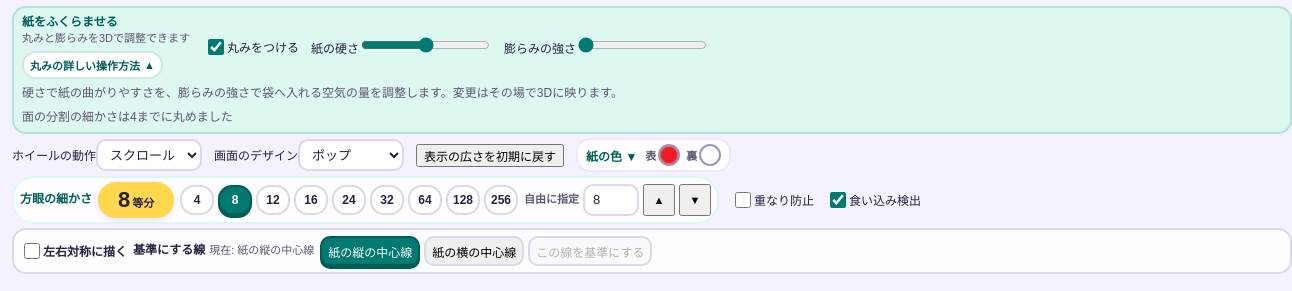
Test: 紙のたわみ(SIM-012 / SIM-013) › 説明を畳んでも見出し・要点・入力・計算の注意を残し、選択を端末へ保存する
Expected: the text "硬さで紙の曲がりやすさを、膨らみの強さで袋へ入れる空気の量を調整します。変更はその場で3Dに映ります。" is shown, [22, 86, 623, 100]
What coordinates should you click on to do the following:
click the button "丸みの詳しい操作方法 ▲"
I would click on:
 (92, 65)
Its box is [22, 51, 163, 79].
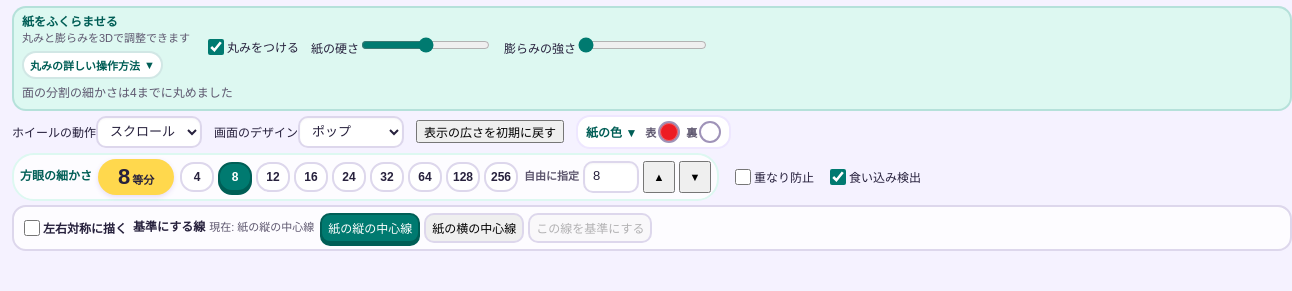
Expected: the text "紙をふくらませる" is shown, [22, 15, 118, 29]
Expected: the button "丸みの詳しい操作方法 ▼" is collapsed
Expected: the text "硬さで紙の曲がりやすさ" is gone
What coordinates should you click on to do the following:
click the button "丸みの詳しい操作方法 ▼"
I would click on:
 (92, 65)
Its box is [22, 51, 163, 79].
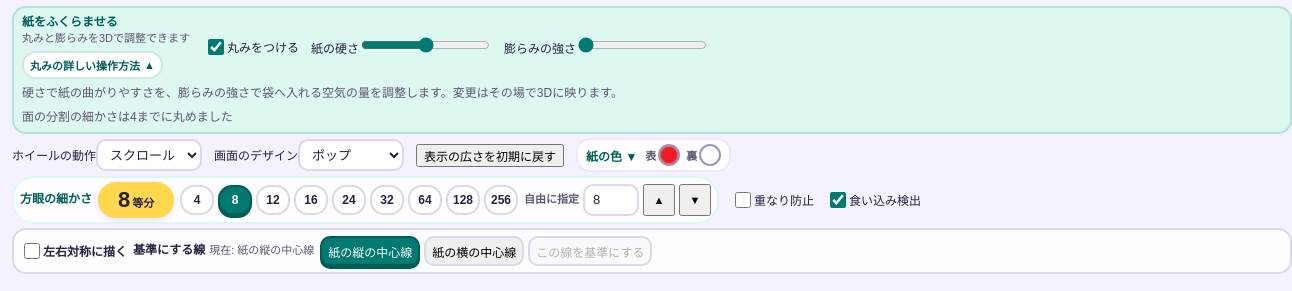
Expected: the button "丸みの詳しい操作方法 ▲" is expanded, [22, 51, 163, 79]
Expected: the text "硬さで紙の曲がりやすさを、膨らみの強さで袋へ入れる空気の量を調整します。変更はその場で3Dに映ります。" is shown, [22, 86, 623, 100]
